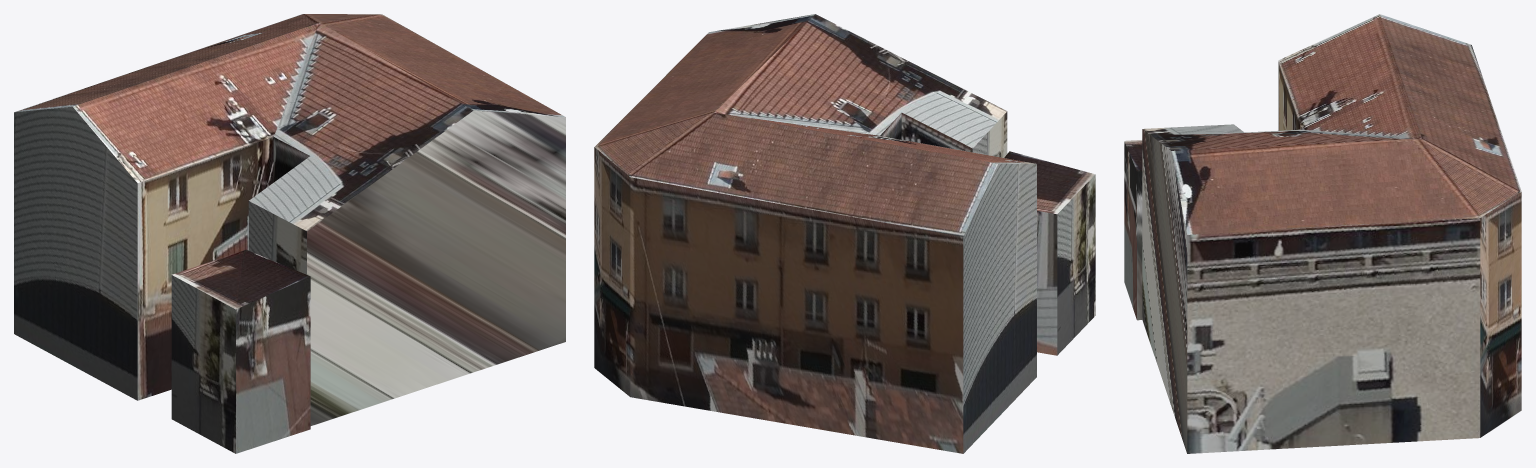
3 views of the same model, side by side, from view 1: azimuth 30°, elevation 25°; view 2: azimuth 150°, elevation 25°; view 3: azimuth 270°, elevation 25° (orthographic). The views are drawn at different scales.
Parts seen in each view (by area): view 1: Z_UP; view 2: Z_UP; view 3: Z_UP.
Boxes of the visible parts, x1,y1,x2,y2 form: Z_UP: (14, 14, 565, 453); Z_UP: (594, 14, 1095, 453); Z_UP: (1124, 14, 1521, 453).
Bounding box in the file's own units: 20.25 × 12.48 × 17.62.
2 materials, 1 textured.
